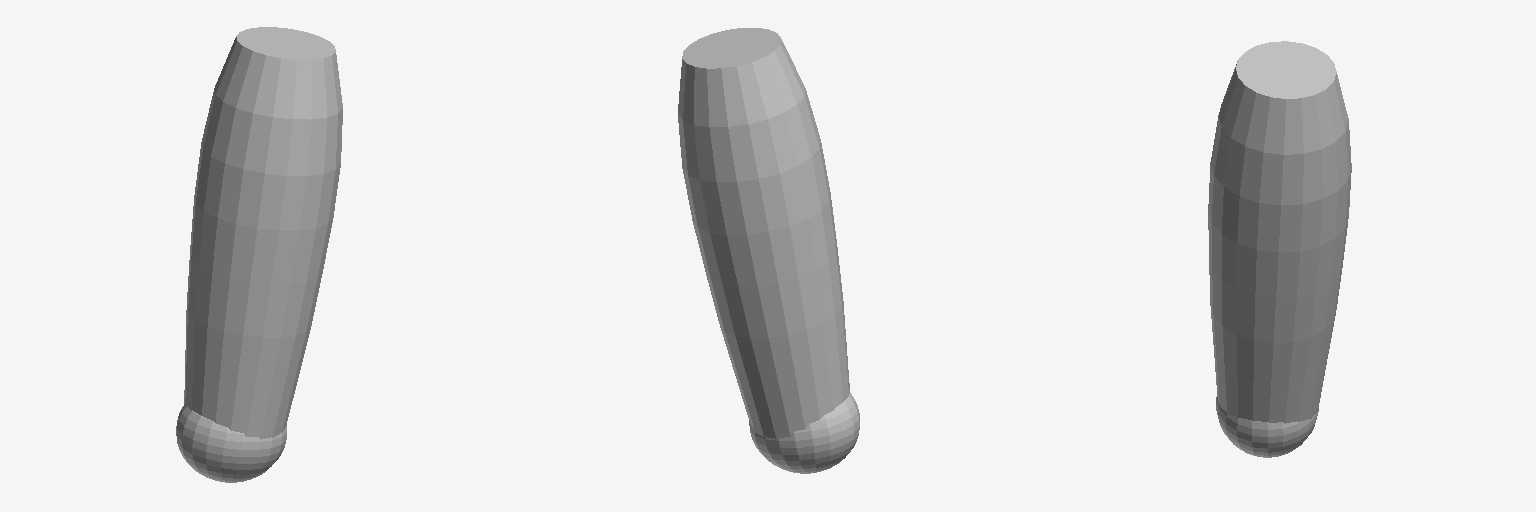
The model's file is legR.obj.
3 renders of one model, left to right at view 1: azimuth 30°, elevation 25°; view 2: azimuth 150°, elevation 25°; view 3: azimuth 270°, elevation 25°, orthographic.
Parts seen in each view (by area): view 1: legR:pSphere13; view 2: legR:pSphere13; view 3: legR:pSphere13.
Part boxes in pixels (left/top/right/bottom): legR:pSphere13: left=176, top=27, right=342, bottom=482; legR:pSphere13: left=678, top=28, right=859, bottom=473; legR:pSphere13: left=1208, top=41, right=1351, bottom=457.
Bounding box in the file's own units: 3.58 × 8.96 × 2.77.